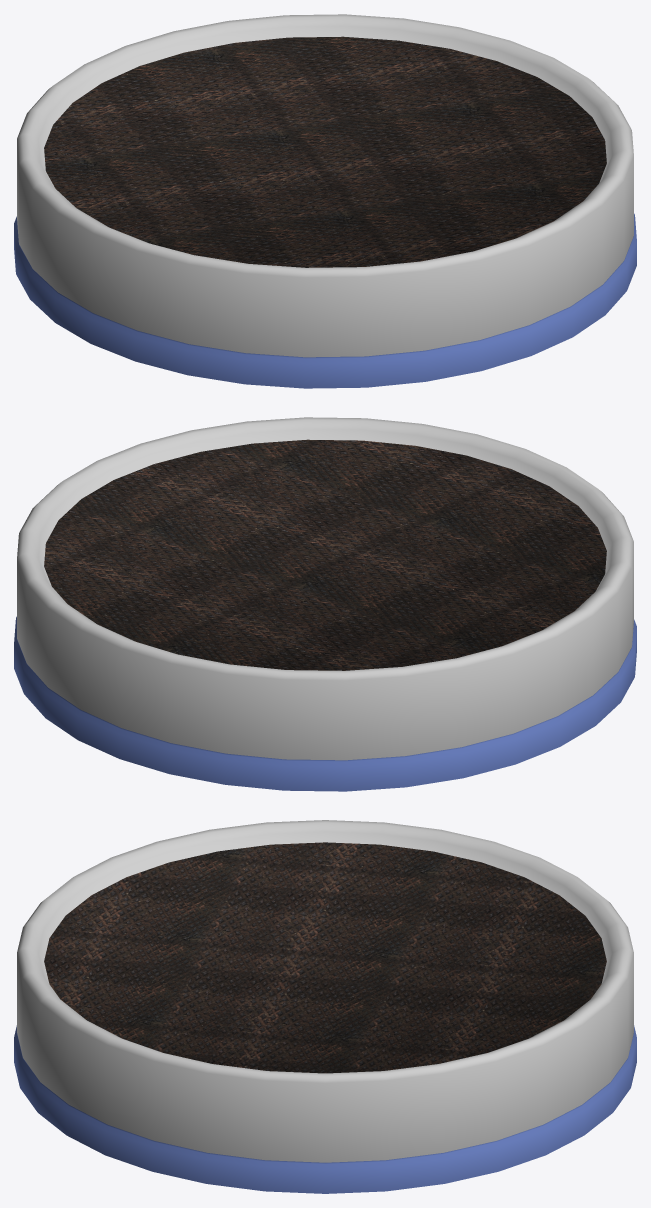
The model's file is Circular Base.fbx.
3 views of the same model, one above another, from view 1: azimuth 30°, elevation 25°; view 2: azimuth 150°, elevation 25°; view 3: azimuth 270°, elevation 25° (orthographic).
Parts seen in each view (by area): view 1: Cylinder; view 2: Cylinder; view 3: Cylinder.
Boxes of the visible parts, <box> form: Cylinder: <box>14,14,636,388</box>; Cylinder: <box>14,417,636,791</box>; Cylinder: <box>14,820,636,1193</box>.
Bounding box in the file's own units: 665 × 134 × 665.
